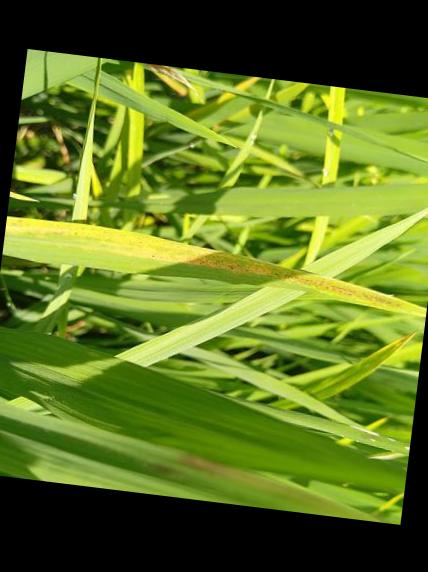Leaf Streak: (5, 214, 427, 314)
